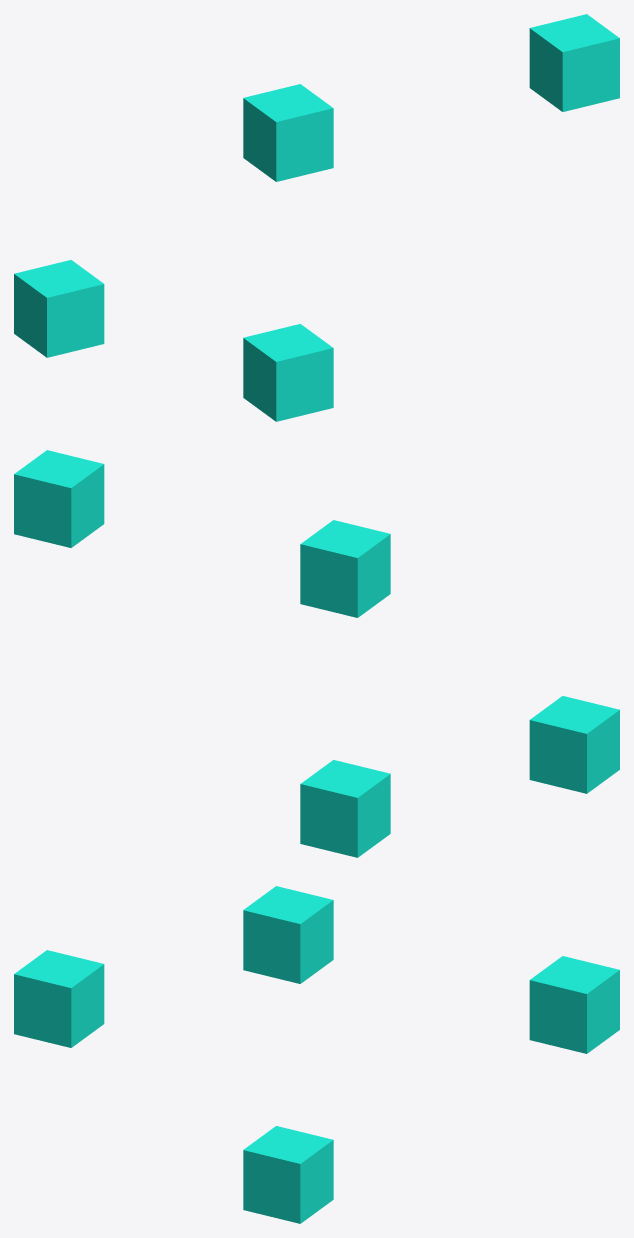
The picture shows the model from 3 angles, top to bottom: view 1: azimuth 30°, elevation 25°; view 2: azimuth 150°, elevation 25°; view 3: azimuth 330°, elevation 25°; orthographic projection.
Parts seen in each view (by area): view 1: 15.1; view 2: 15.1; view 3: 15.1.
Part boxes in pixels (x1=…): 15.1: x1=14, y1=14, x2=619, y2=421; 15.1: x1=14, y1=450, x2=619, y2=857; 15.1: x1=14, y1=886, x2=619, y2=1223.
Bounding box in the file's own units: 100 × 50 × 10.
1 material, 1 textured.
